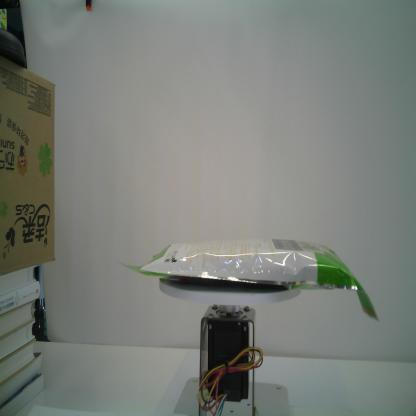Dried Food: (118, 236, 380, 324)
